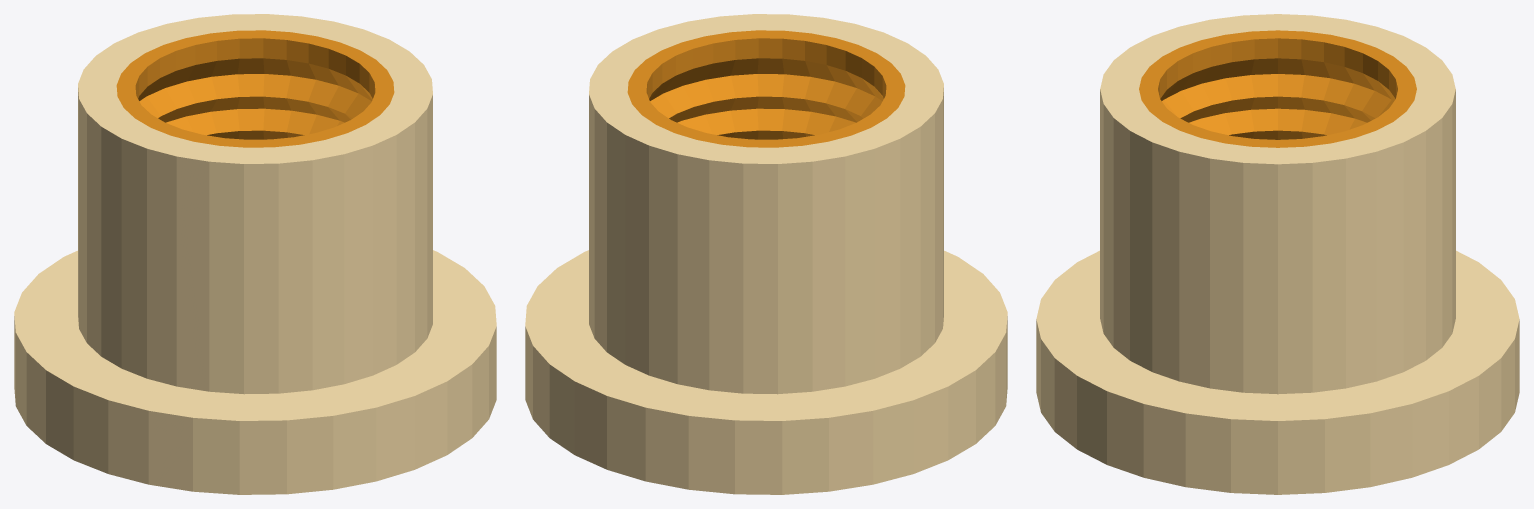
File: LightbulbSocket.fbx
The picture shows the model from 3 angles, left to right: view 1: azimuth 30°, elevation 25°; view 2: azimuth 150°, elevation 25°; view 3: azimuth 270°, elevation 25°; orthographic projection.
Parts seen in each view (by area): view 1: Circle.001; view 2: Circle.001; view 3: Circle.001.
Boxes of the visible parts, x1=… form: Circle.001: x1=14, y1=14, x2=496, y2=494; Circle.001: x1=525, y1=14, x2=1007, y2=494; Circle.001: x1=1036, y1=14, x2=1519, y2=494.
Size of the model in its own units: 1.49 by 1.04 by 1.49.
